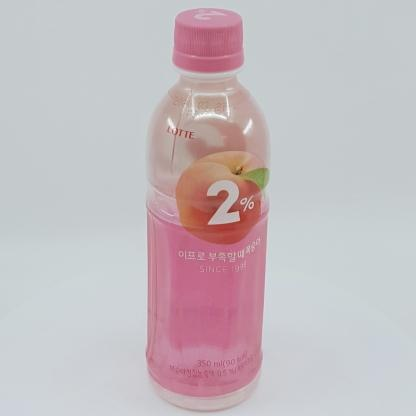--2_---350ML: (144, 7, 272, 411)
